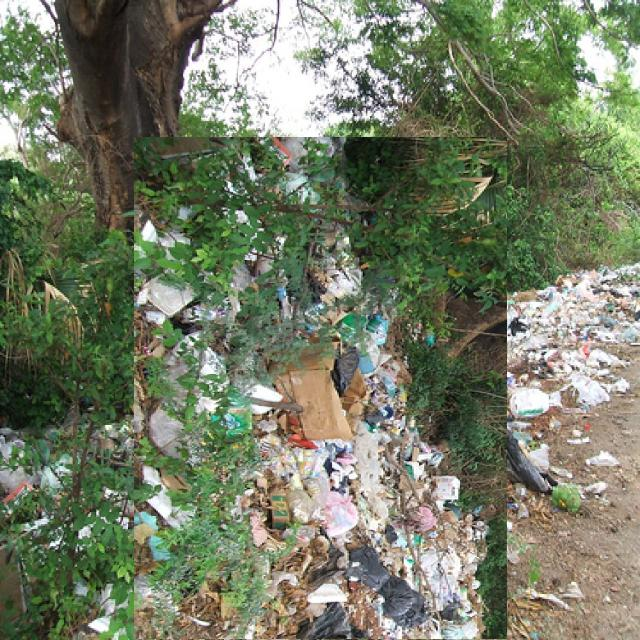garbage: (69, 201, 571, 640)
